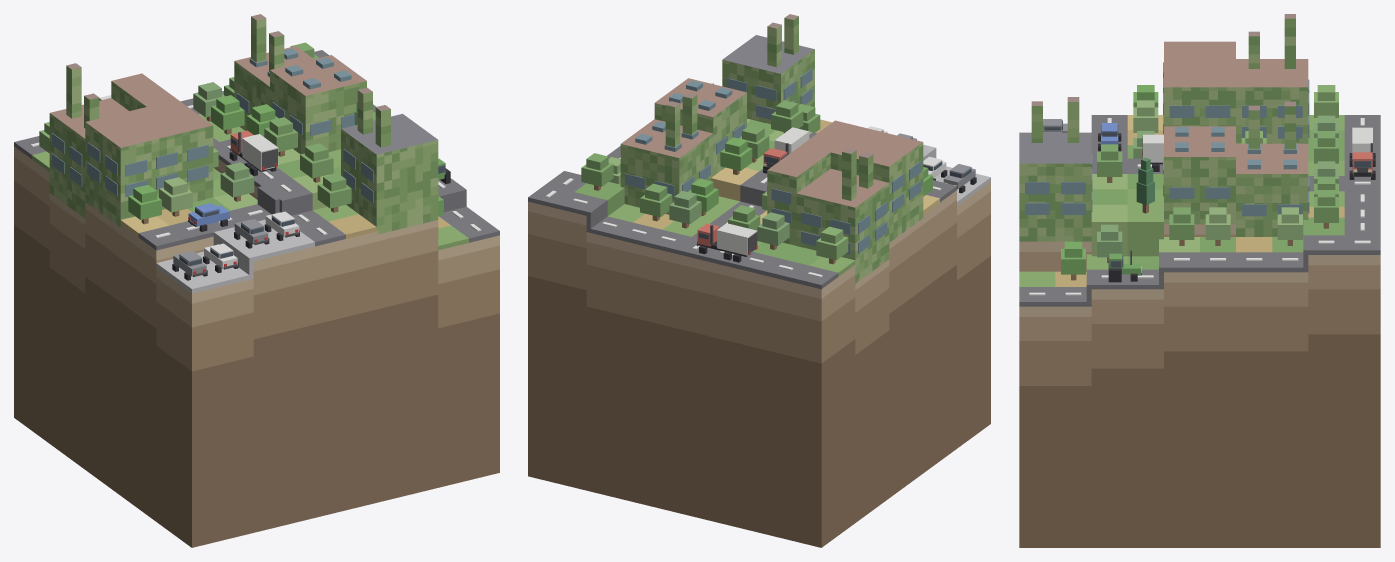
Rendered from block_10_greenfacade_45.glb.
3 views of the same model, side by side, from view 1: azimuth 30°, elevation 25°; view 2: azimuth 150°, elevation 25°; view 3: azimuth 270°, elevation 25° (orthographic). The views are drawn at different scales.
Parts seen in each view (by area): view 1: Patch_LowerLeft_b10_GF, Factories_LowerLeft_b10_GF, Roads_LowerLeft_b10_GF, Ground_LowerLeft_b10_GF, Parking_LowerLeft_b10_GF, Asset_Truck.003_GF, Asset_Tree_Round.049_GF, Asset_Tree_Round.061_GF, Asset_Tree_Round.057_GF, Asset_Tree_Round.047_GF, Asset_Tree_Round.036_GF, Asset_Tree_Round.048_GF (+8 smaller); view 2: Patch_LowerLeft_b10_GF, Factories_LowerLeft_b10_GF, Roads_LowerLeft_b10_GF, Ground_LowerLeft_b10_GF, Asset_Truck.002_GF, Asset_Truck.003_GF, Asset_Tree_Round.029_GF, Asset_Tree_Round.024_GF, Asset_Tree_Round.042_GF, Asset_Tree_Round.025_GF, Asset_Tree_Round.027_GF, Asset_Tree_Round.028_GF (+7 smaller); view 3: Patch_LowerLeft_b10_GF, Factories_LowerLeft_b10_GF, Roads_LowerLeft_b10_GF, Ground_LowerLeft_b10_GF, Asset_Truck.002_GF, Asset_Tree_Round.062_GF, RoadLines_LowerLeft_b10_GF, Asset_Tree_Round.037_GF, Asset_Tree_Round.043_GF, Asset_Tree_Round.045_GF, Asset_Tree_Round.057_GF, Asset_Tree_Round.029_GF (+8 smaller).
Boxes of the visible parts, bbox=[...] form: Patch_LowerLeft_b10_GF: bbox=[14, 146, 499, 547]; Factories_LowerLeft_b10_GF: bbox=[49, 14, 438, 234]; Roads_LowerLeft_b10_GF: bbox=[14, 50, 499, 250]; Ground_LowerLeft_b10_GF: bbox=[32, 114, 468, 250]; Parking_LowerLeft_b10_GF: bbox=[156, 219, 314, 293]; Asset_Truck.003_GF: bbox=[229, 130, 278, 176]; Asset_Tree_Round.049_GF: bbox=[220, 162, 254, 201]; Asset_Tree_Round.061_GF: bbox=[317, 173, 351, 212]; Asset_Tree_Round.057_GF: bbox=[300, 143, 333, 182]; Asset_Tree_Round.047_GF: bbox=[128, 185, 161, 224]; Asset_Tree_Round.036_GF: bbox=[211, 95, 244, 134]; Asset_Tree_Round.048_GF: bbox=[159, 177, 192, 216]; Patch_LowerLeft_b10_GF: bbox=[528, 181, 990, 547]; Factories_LowerLeft_b10_GF: bbox=[620, 14, 923, 283]; Roads_LowerLeft_b10_GF: bbox=[528, 132, 956, 289]; Ground_LowerLeft_b10_GF: bbox=[575, 118, 939, 276]; Asset_Truck.002_GF: bbox=[696, 223, 757, 262]; Asset_Truck.003_GF: bbox=[763, 127, 809, 173]; Asset_Tree_Round.029_GF: bbox=[581, 153, 613, 190]; Asset_Tree_Round.024_GF: bbox=[816, 226, 848, 264]; Asset_Tree_Round.042_GF: bbox=[720, 137, 752, 174]; Asset_Tree_Round.025_GF: bbox=[757, 212, 789, 249]; Asset_Tree_Round.027_GF: bbox=[669, 190, 701, 228]; Asset_Tree_Round.028_GF: bbox=[640, 183, 672, 221]; Patch_LowerLeft_b10_GF: bbox=[1019, 224, 1380, 547]; Factories_LowerLeft_b10_GF: bbox=[1019, 14, 1309, 241]; Roads_LowerLeft_b10_GF: bbox=[1019, 115, 1380, 306]; Ground_LowerLeft_b10_GF: bbox=[1019, 115, 1344, 286]; Asset_Truck.002_GF: bbox=[1349, 127, 1375, 179]; Asset_Tree_Round.062_GF: bbox=[1061, 241, 1085, 280]; RoadLines_LowerLeft_b10_GF: bbox=[1029, 118, 1370, 295]; Asset_Tree_Round.037_GF: bbox=[1277, 207, 1302, 245]; Asset_Tree_Round.043_GF: bbox=[1205, 207, 1230, 245]; Asset_Tree_Round.045_GF: bbox=[1169, 207, 1194, 245]; Asset_Tree_Round.057_GF: bbox=[1097, 144, 1122, 182]; Asset_Tree_Round.029_GF: bbox=[1314, 190, 1338, 228].
Size of the model in its own units: 9.52 by 11.46 by 9.5.
